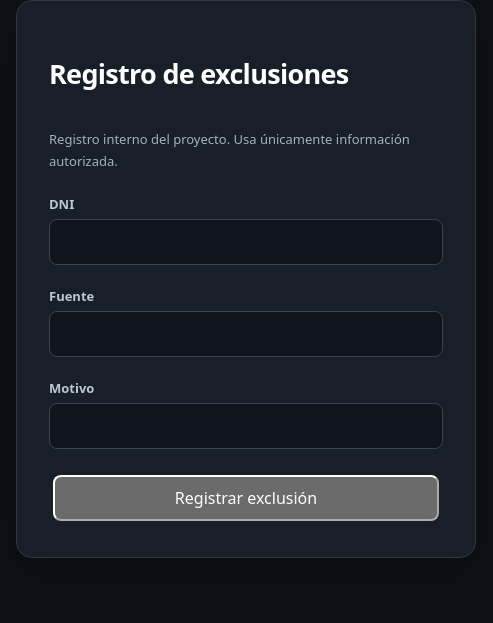
HU25 registra y limpia el DNI después de guardar
In the field labelled "DNI": (246, 242) [49,219,443,265], type "00000000"
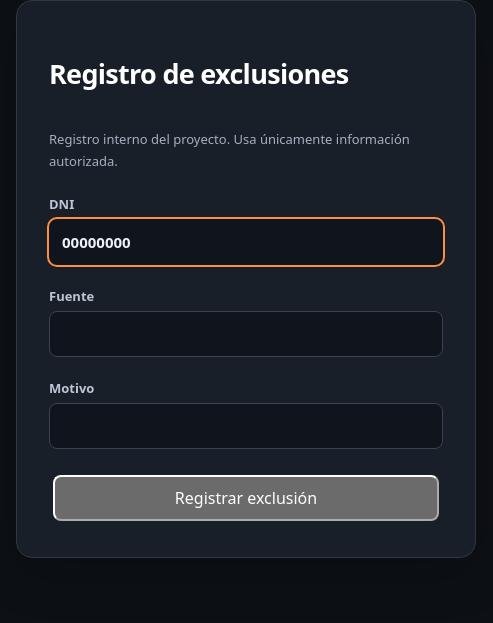
In the field labelled "Fuente": (246, 334) [49,311,443,357], type "fixture"
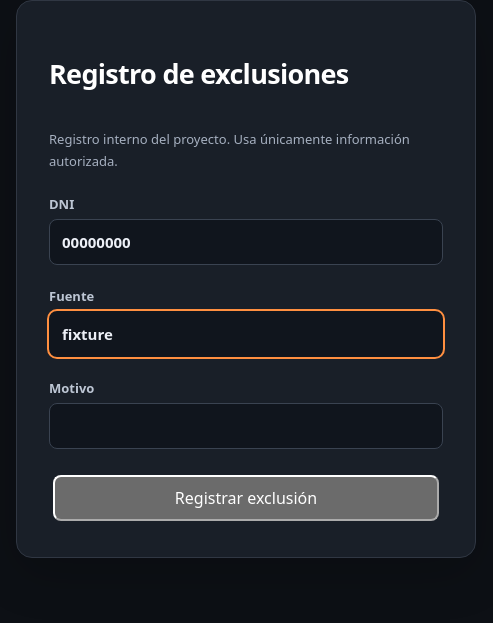
Click the button "Registrar exclusión": click(246, 498) [53,475,439,521]
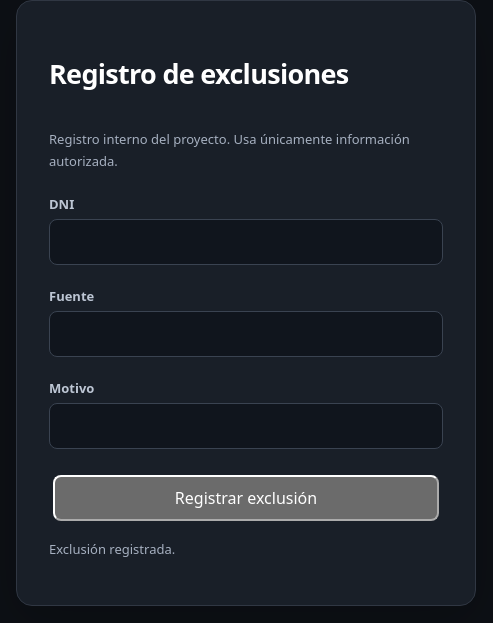
Expected: the text "Exclusión registrada." is shown, [49,540,175,558]
Expected: the field labelled "DNI" is empty, [49,219,443,265]
